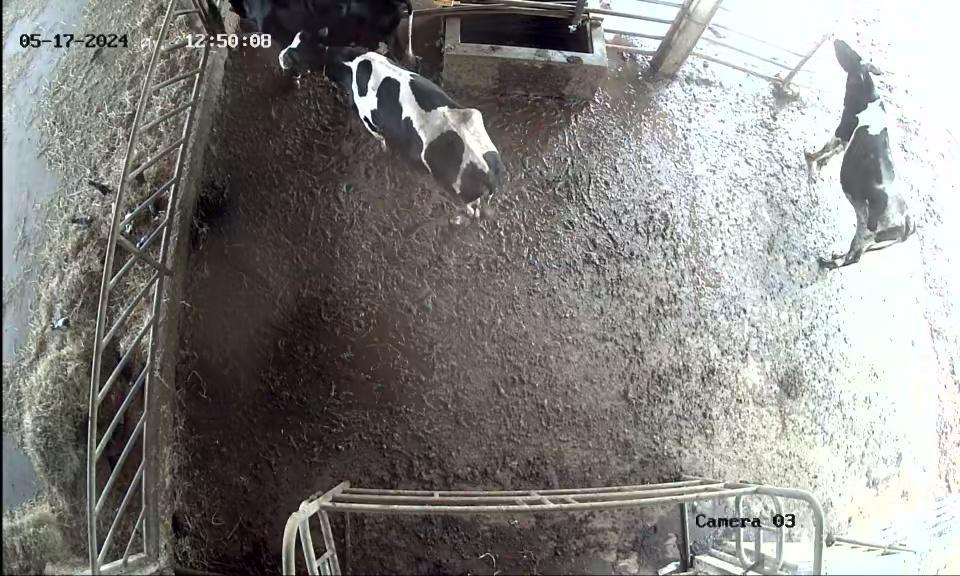stand: (276, 29, 513, 223), (791, 29, 927, 288), (221, 2, 418, 58)
